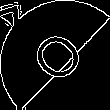O_SE: (21, 22, 89, 88)
